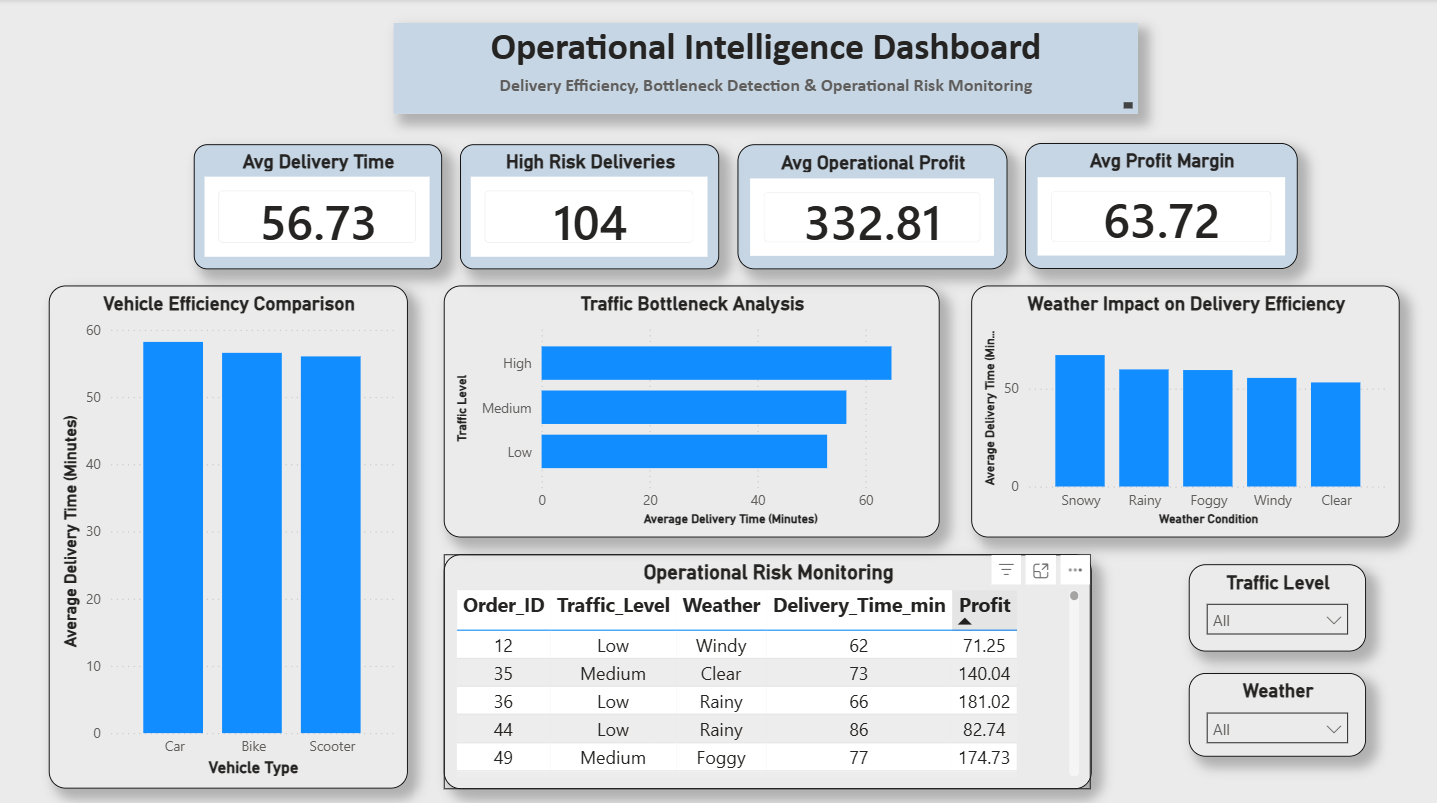

The page's visual inventory and layout, read from the dashboard file:
{"tool":"powerbi","page":{"name":"Operational Intelligence","canvas":[1280,720],"ordinal":1},"visuals":[{"type":"cardVisual","title":"Avg Delivery Time","fields":{"Data":["Sum(executive_summary.Average_Delivery_Time)"]},"box":[172.8,130.5,220.5,110.9],"z":0},{"type":"cardVisual","title":"High Risk Deliveries","fields":{"Data":["CountNonNull(high_risk_deliveries.Order_ID)"]},"box":[409.1,130.5,230.8,110.9],"z":1000},{"type":"cardVisual","title":"Avg Operational Profit","fields":{"Data":["Avg(weather_analysis.Average_Profit)"]},"box":[655.8,130.5,239.8,110.9],"z":2000},{"type":"cardVisual","title":"Avg Profit Margin","fields":{"Data":["Avg(vehicle_analysis.Average_Profit_Margin)"]},"box":[911.5,129.2,242.4,112.2],"z":3000},{"type":"clusteredBarChart","title":"Traffic Bottleneck Analysis","fields":{"Category":["traffic_analysis.Traffic_Level"],"Y":["Sum(traffic_analysis.Average_Delivery_Time)"]},"box":[394.5,255.9,440.7,224.3],"z":4000},{"type":"clusteredColumnChart","title":"Weather Impact on Delivery Efficiency","fields":{"Category":["weather_analysis.Weather"],"Y":["Sum(weather_analysis.Average_Delivery_Time)"]},"box":[863.4,255.9,381,224.3],"z":5000},{"type":"clusteredColumnChart","title":"Vehicle Efficiency Comparison","fields":{"Category":["vehicle_analysis.Vehicle_Type"],"Y":["Sum(vehicle_analysis.Average_Delivery_Time)"]},"box":[42.8,255.9,319,447.5],"z":6000},{"type":"tableEx","title":"Operational Risk Monitoring","fields":{"Values":["high_risk_deliveries.Order_ID","high_risk_deliveries.Traffic_Level","high_risk_deliveries.Weather","high_risk_deliveries.Delivery_Time_min","high_risk_deliveries.Profit"]},"box":[394.5,494.8,576,208.5],"z":7000},{"type":"slicer","title":"Traffic Level","fields":{"Values":["traffic_analysis.Traffic_Level"]},"box":[1056.9,503.1,157.3,77.4],"z":8000},{"type":"slicer","title":"Weather","fields":{"Values":["weather_analysis.Weather"]},"box":[1056.9,599.8,157.3,74.8],"z":9000},{"type":"textbox","title":"Operational Intelligence Dashboard","box":[350.5,22.5,661.6,81.2],"z":10000}]}

Visuals, with their boxes in screenshot pixels (x1, y1, x2, y2), scaled from the page's 1280x720 canvas onto the 1437x803 screenshot:
"Avg Delivery Time" cardVisual: 194, 146, 442, 269
"High Risk Deliveries" cardVisual: 459, 146, 718, 269
"Avg Operational Profit" cardVisual: 736, 146, 1005, 269
"Avg Profit Margin" cardVisual: 1023, 144, 1295, 269
"Traffic Bottleneck Analysis" clusteredBarChart: 443, 285, 938, 536
"Weather Impact on Delivery Efficiency" clusteredColumnChart: 969, 285, 1397, 536
"Vehicle Efficiency Comparison" clusteredColumnChart: 48, 285, 406, 784
"Operational Risk Monitoring" tableEx: 443, 552, 1090, 784
"Traffic Level" slicer: 1187, 561, 1363, 647
"Weather" slicer: 1187, 669, 1363, 752
"Operational Intelligence Dashboard" textbox: 393, 25, 1136, 116
